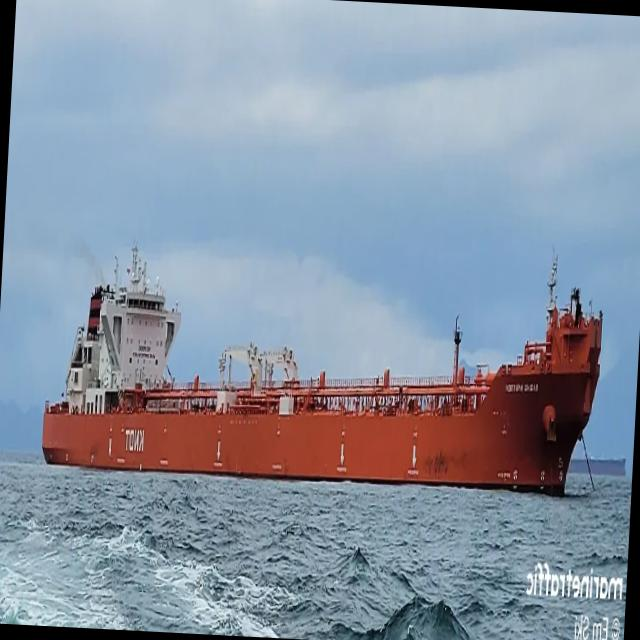Tanker: (43, 247, 603, 494)
